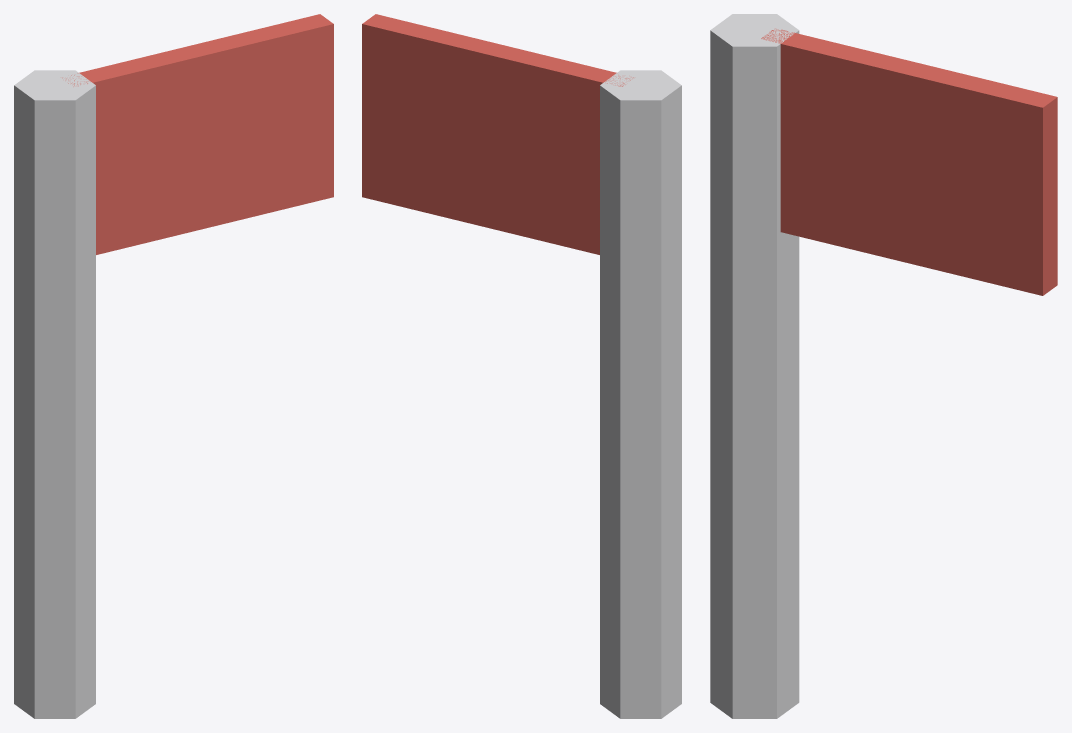
Rendered from victory_point.glb.
3 renders of one model, left to right at view 1: azimuth 30°, elevation 25°; view 2: azimuth 150°, elevation 25°; view 3: azimuth 330°, elevation 25°, orthographic. The views are drawn at different scales.
Visible parts, largest first — view 1: victory_point; view 2: victory_point; view 3: victory_point.
Boxes of the visible parts, bbox=[...] form: victory_point: bbox=[14, 14, 333, 718]; victory_point: bbox=[362, 14, 681, 718]; victory_point: bbox=[710, 14, 1057, 718].
Size of the model in its own units: 0.256 by 0.5 by 0.06.
